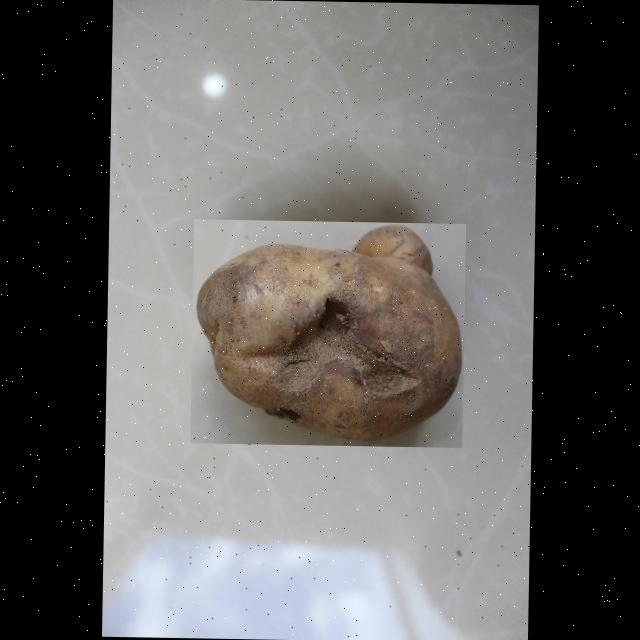Damaged potato: (190, 218, 466, 447)
